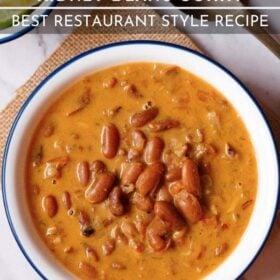rajma: (40, 64, 262, 280)
